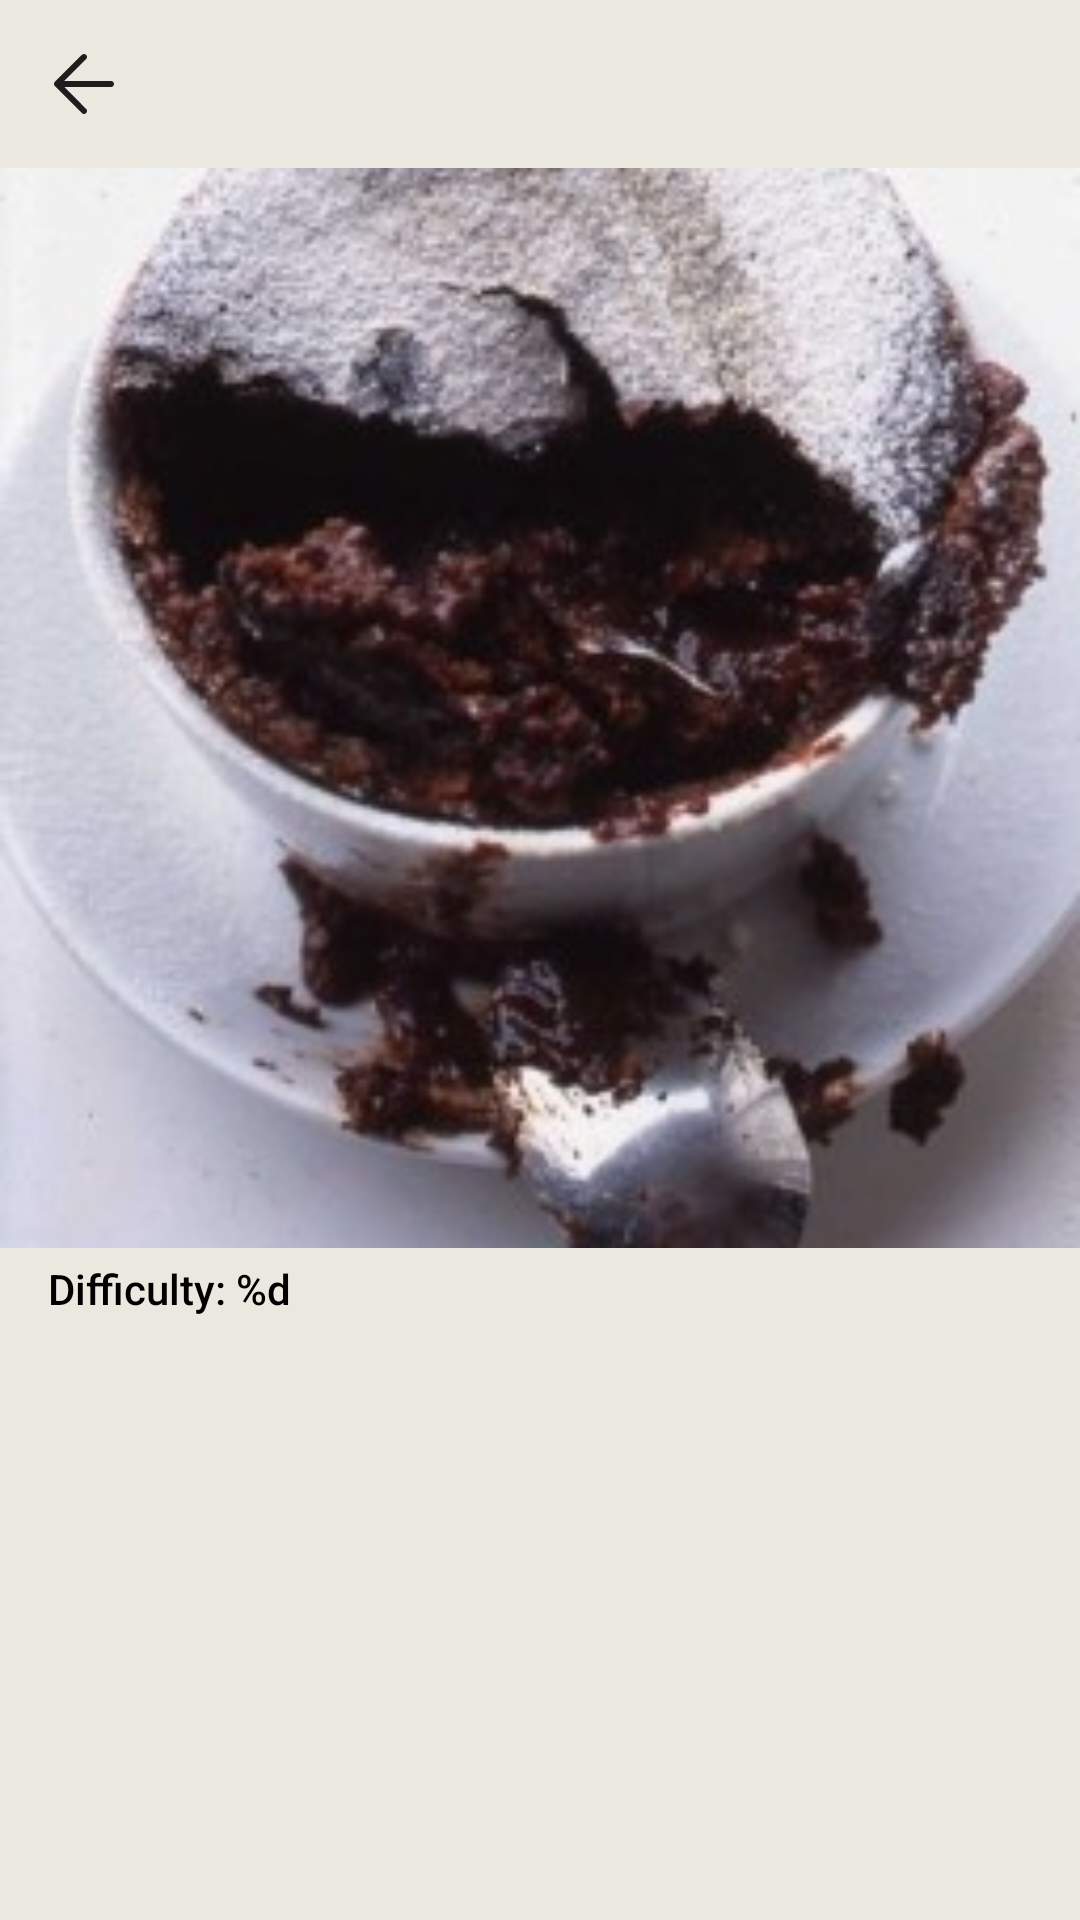

Locate icon controls on the screen. Image size 1080x1920, boxes as rect(x1, y1, x2, y2).
back: rect(54, 54, 114, 114)
